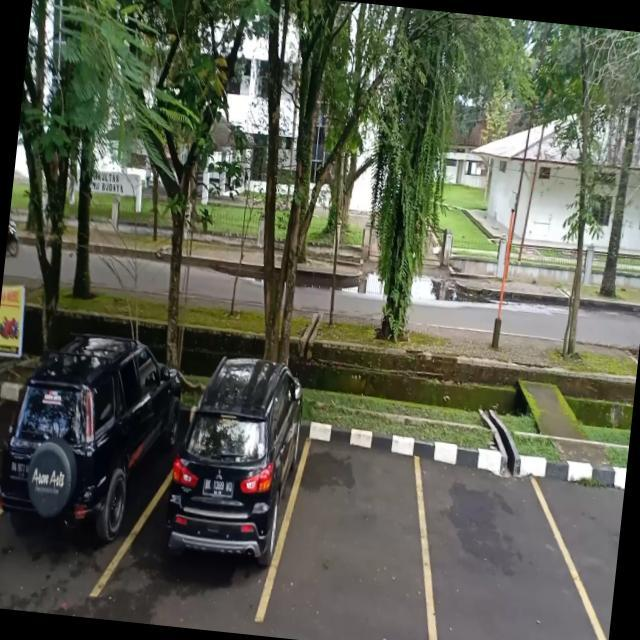empty: (275, 406, 438, 640), (417, 445, 579, 640)
occupied: (0, 350, 167, 599), (138, 388, 306, 622)
